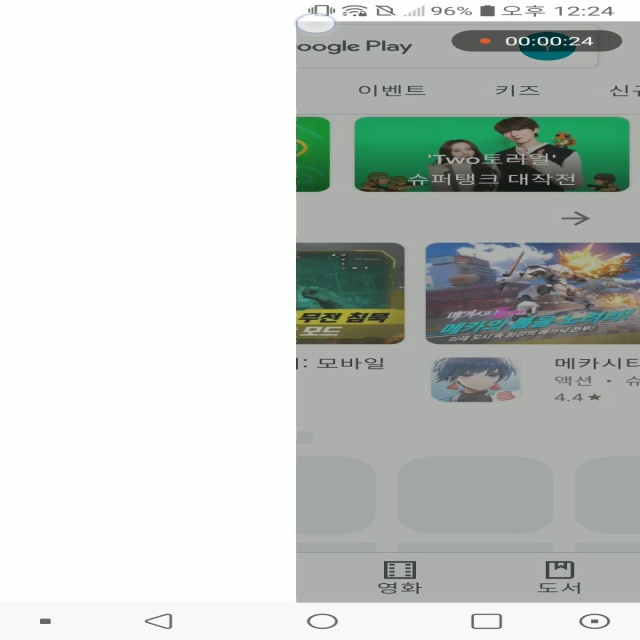Cursor: (296, 12, 340, 35)
